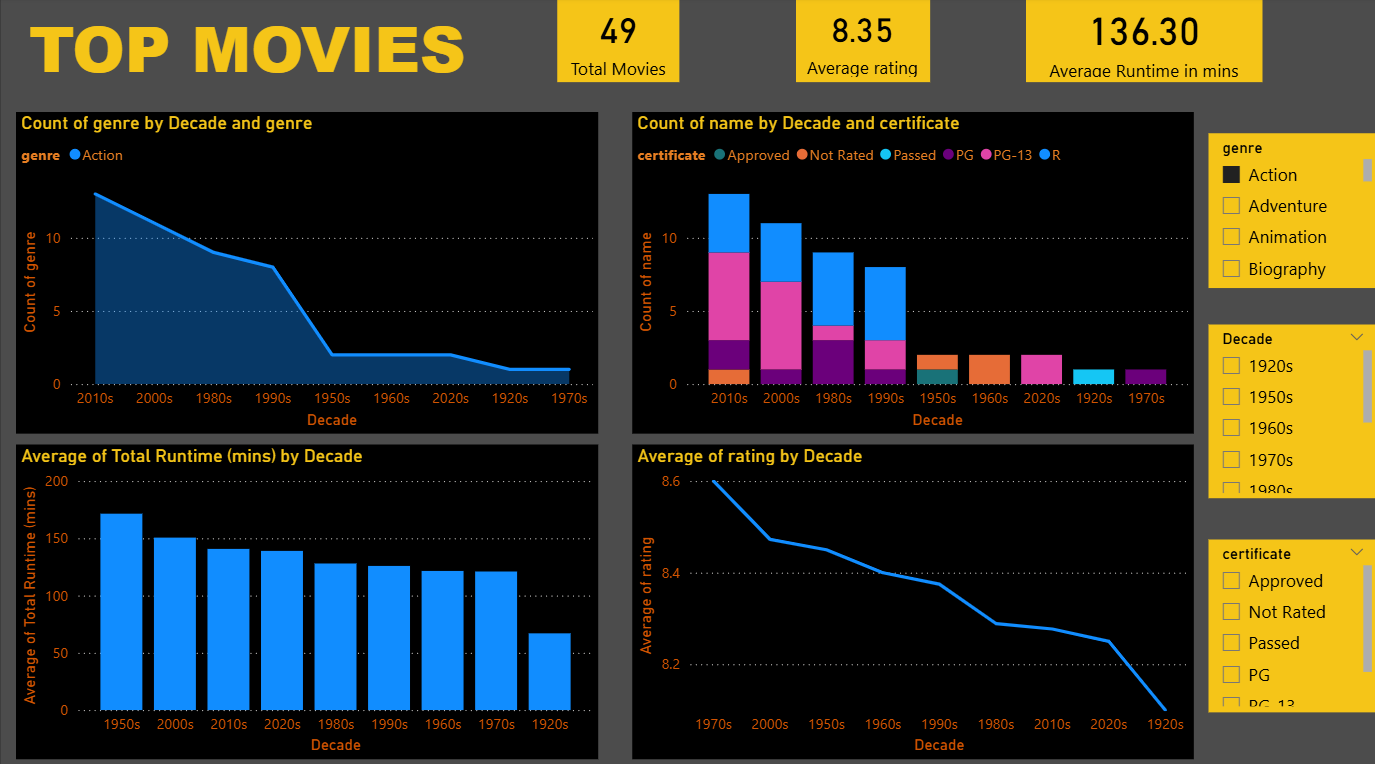

Layout of this report page (visuals, bound fields, positions):
{"tool":"powerbi","page":{"name":"Page 1","canvas":[1280,720],"ordinal":0},"visuals":[{"type":"textbox","box":[14,0,430.2,107],"z":0},{"type":"stackedAreaChart","fields":{"Category":["IMDB Top 250 Movies.Decade"],"Y":["CountNonNull(IMDB Top 250 Movies.genre)"],"Series":["IMDB Top 250 Movies.genre"]},"box":[14,107,541.9,298.8],"z":1000},{"type":"clusteredColumnChart","fields":{"Category":["IMDB Top 250 Movies.Decade"],"Y":["Avg(IMDB Top 250 Movies.Total Runtime (mins))"]},"box":[14,416.3,541.9,293],"z":2000},{"type":"columnChart","fields":{"Category":["IMDB Top 250 Movies.Decade"],"Y":["CountNonNull(IMDB Top 250 Movies.name)"],"Series":["IMDB Top 250 Movies.certificate"]},"box":[587.2,107,522.1,298.8],"z":3000},{"type":"lineChart","fields":{"Category":["IMDB Top 250 Movies.Decade"],"Y":["Avg(IMDB Top 250 Movies.rating)"]},"box":[587.2,416.3,522.1,293],"z":4000},{"type":"slicer","fields":{"Values":["IMDB Top 250 Movies.Decade"]},"box":[1123.3,304.7,157,161.6],"z":5000},{"type":"card","fields":{"Values":["Count(IMDB Top 250 Movies.name)"]},"box":[517.4,0,114,79.1],"z":6000},{"type":"slicer","fields":{"Values":["IMDB Top 250 Movies.certificate"]},"box":[1123.3,504.7,157,160.5],"z":7000},{"type":"card","fields":{"Values":["Avg(IMDB Top 250 Movies.rating)"]},"box":[739.5,0,124.4,79.1],"z":8000},{"type":"card","fields":{"Values":["Avg(IMDB Top 250 Movies.Total Runtime (mins))"]},"box":[953.5,0,219.8,79.1],"z":9000},{"type":"slicer","fields":{"Values":["IMDB Top 250 Movies.genre"]},"box":[1123.3,126.7,157,144.2],"z":10000}]}

Visuals, with their boxes in screenshot pixels (x1, y1, x2, y2), scaled from the page's 1280x720 canvas onto the 1375x764 screenshot:
textbox: <bbox>15, 0, 477, 114</bbox>
stackedAreaChart - IMDB Top 250 Movies.Decade x CountNonNull(IMDB Top 250 Movies.genre): <bbox>15, 114, 597, 431</bbox>
clusteredColumnChart - IMDB Top 250 Movies.Decade x Avg(IMDB Top 250 Movies.Total Runtime (mins)): <bbox>15, 442, 597, 753</bbox>
columnChart - IMDB Top 250 Movies.Decade x CountNonNull(IMDB Top 250 Movies.name): <bbox>631, 114, 1192, 431</bbox>
lineChart - IMDB Top 250 Movies.Decade x Avg(IMDB Top 250 Movies.rating): <bbox>631, 442, 1192, 753</bbox>
slicer - IMDB Top 250 Movies.Decade: <bbox>1207, 323, 1374, 495</bbox>
card - Count(IMDB Top 250 Movies.name): <bbox>556, 0, 678, 84</bbox>
slicer - IMDB Top 250 Movies.certificate: <bbox>1207, 536, 1374, 706</bbox>
card - Avg(IMDB Top 250 Movies.rating): <bbox>794, 0, 928, 84</bbox>
card - Avg(IMDB Top 250 Movies.Total Runtime (mins)): <bbox>1024, 0, 1260, 84</bbox>
slicer - IMDB Top 250 Movies.genre: <bbox>1207, 134, 1374, 287</bbox>
